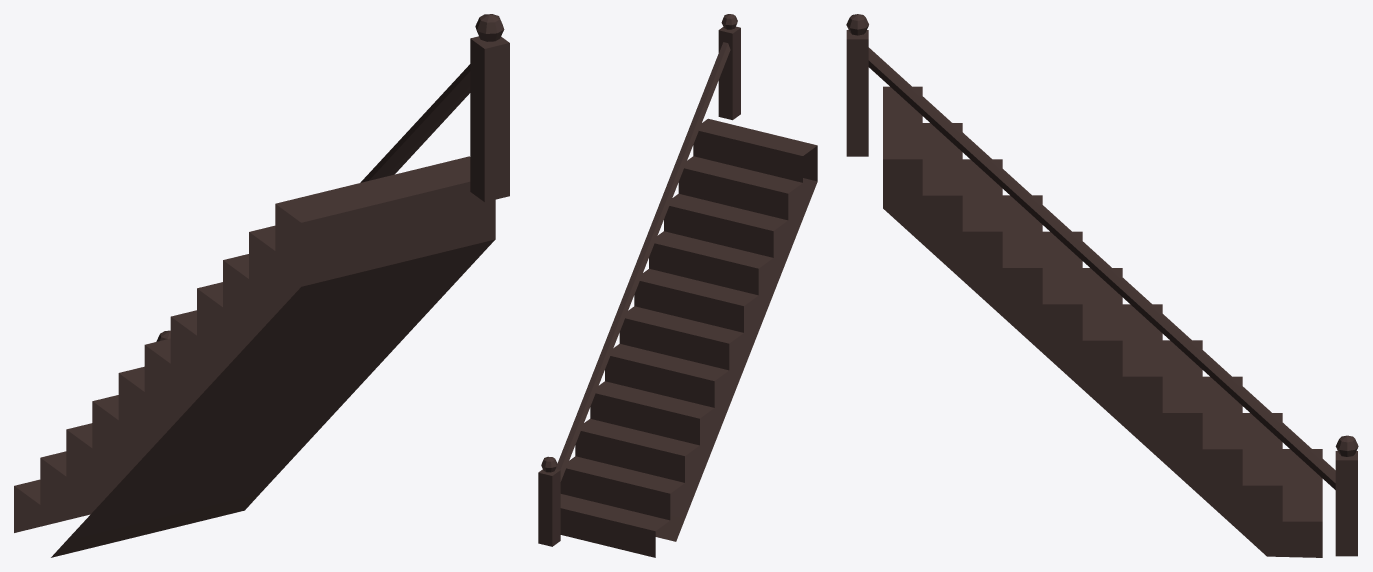
The model's file is escalier.FBX.
The picture shows the model from 3 angles, left to right: view 1: azimuth 30°, elevation 25°; view 2: azimuth 150°, elevation 25°; view 3: azimuth 270°, elevation 25°; orthographic projection. The views are drawn at different scales.
Parts seen in each view (by area): view 1: escalier; view 2: escalier; view 3: escalier.
Boxes of the visible parts, left/top/right/bottom form: escalier: left=14, top=14, right=509, bottom=557; escalier: left=538, top=14, right=817, bottom=557; escalier: left=846, top=14, right=1358, bottom=557.
Bounding box in the file's own units: 77.26 × 267 × 230.
1 material, 1 textured.
